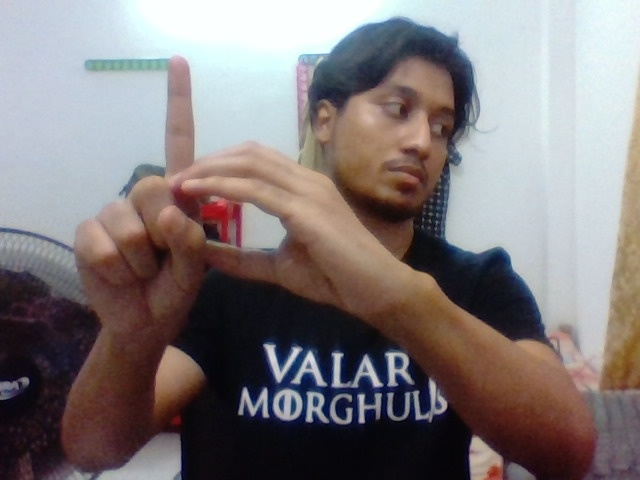D: (119, 39, 319, 289)
